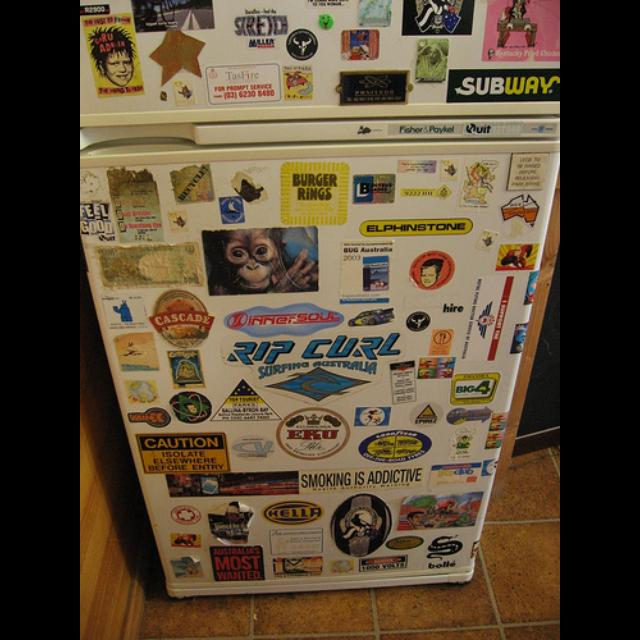Refrigerator: (81, 0, 560, 597)
